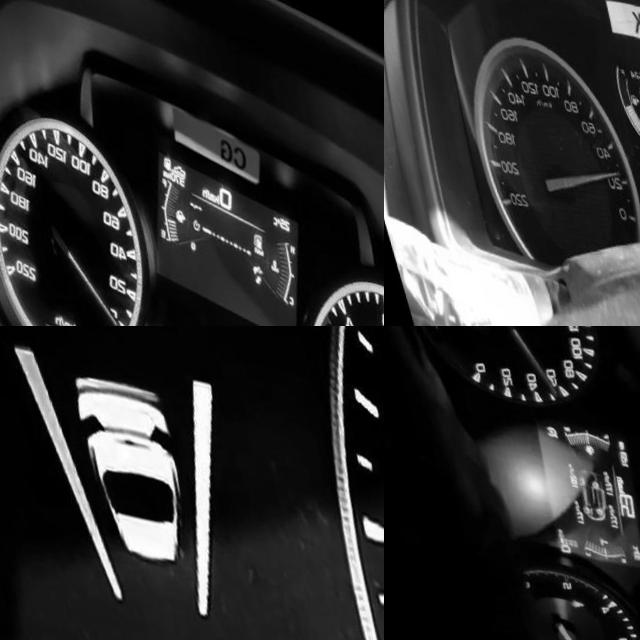Seat Belt: (554, 583, 570, 596)
